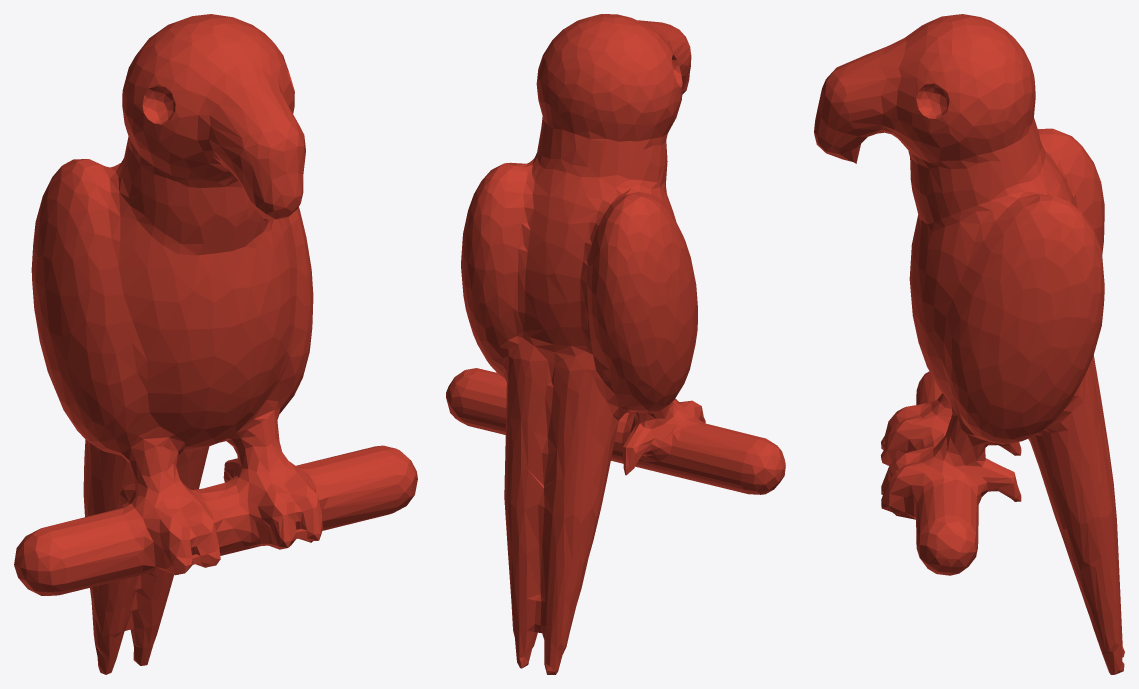
Rendered from NEW_RECOVERY_027_LOD1.glb.
3 views of the same model, side by side, from view 1: azimuth 30°, elevation 25°; view 2: azimuth 150°, elevation 25°; view 3: azimuth 270°, elevation 25° (orthographic). The views are drawn at different scales.
Parts seen in each view (by area): view 1: Parrot_sculpture; view 2: Parrot_sculpture; view 3: Parrot_sculpture.
Part boxes in pixels (box(x1,y1,x2,y2)): Parrot_sculpture: box(14, 14, 417, 674); Parrot_sculpture: box(446, 14, 785, 674); Parrot_sculpture: box(814, 14, 1124, 674).
Size of the model in its own units: 1.83 by 3.16 by 1.38.
